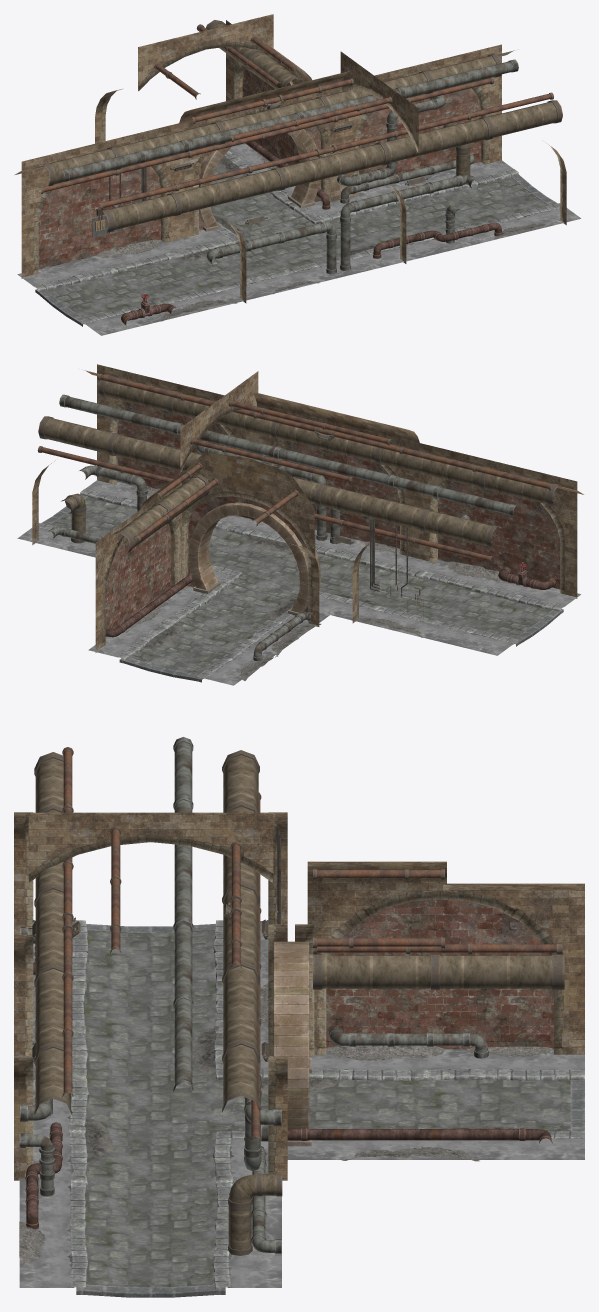
The model's file is t3_road_t_junction_a.glb.
3 renders of one model, top to bottom at view 1: azimuth 30°, elevation 25°; view 2: azimuth 150°, elevation 25°; view 3: azimuth 270°, elevation 25°, orthographic. The views are drawn at different scales.
Visible parts, largest first — view 1: um_t3_road_t_junction_a_model_t3_road_t_junction_a_modelShap; view 2: um_t3_road_t_junction_a_model_t3_road_t_junction_a_modelShap; view 3: um_t3_road_t_junction_a_model_t3_road_t_junction_a_modelShap.
Part boxes in pixels (x1,y1,x2,y2): um_t3_road_t_junction_a_model_t3_road_t_junction_a_modelShap: (15,14,580,335); um_t3_road_t_junction_a_model_t3_road_t_junction_a_modelShap: (17,364,583,685); um_t3_road_t_junction_a_model_t3_road_t_junction_a_modelShap: (14,737,584,1297).
Size of the model in its own units: 30.77 by 9.17 by 19.73.
8 materials, 8 textured.
